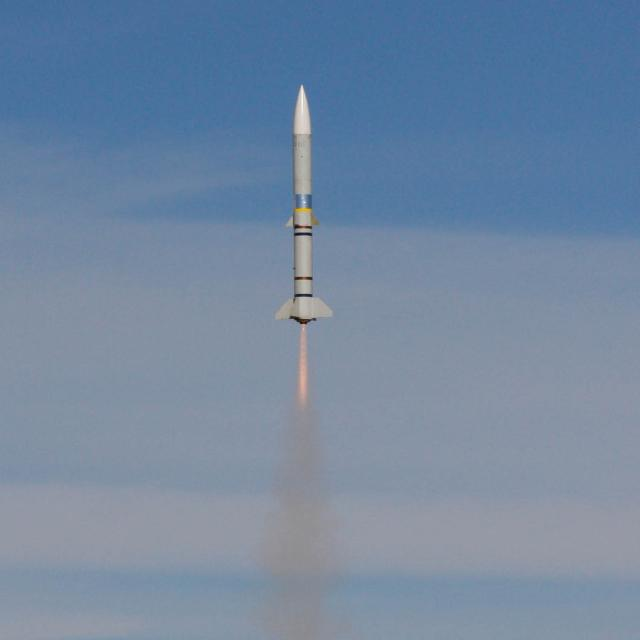Rocket: (272, 84, 336, 326)
